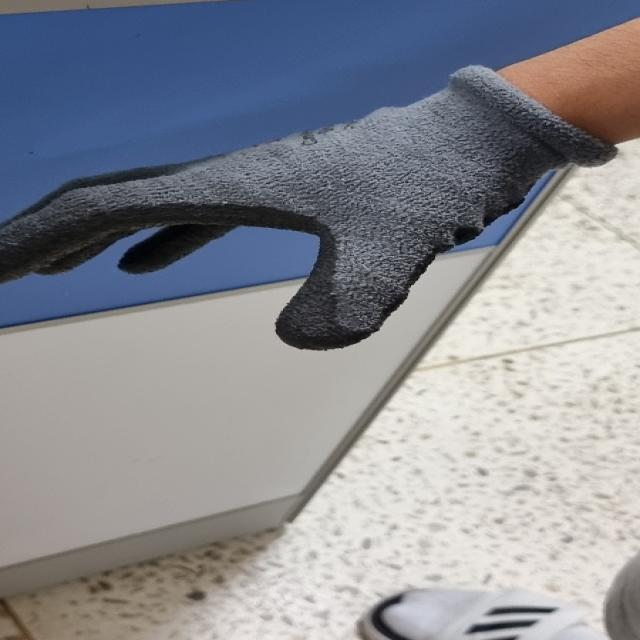Gloves: (0, 58, 624, 354)
